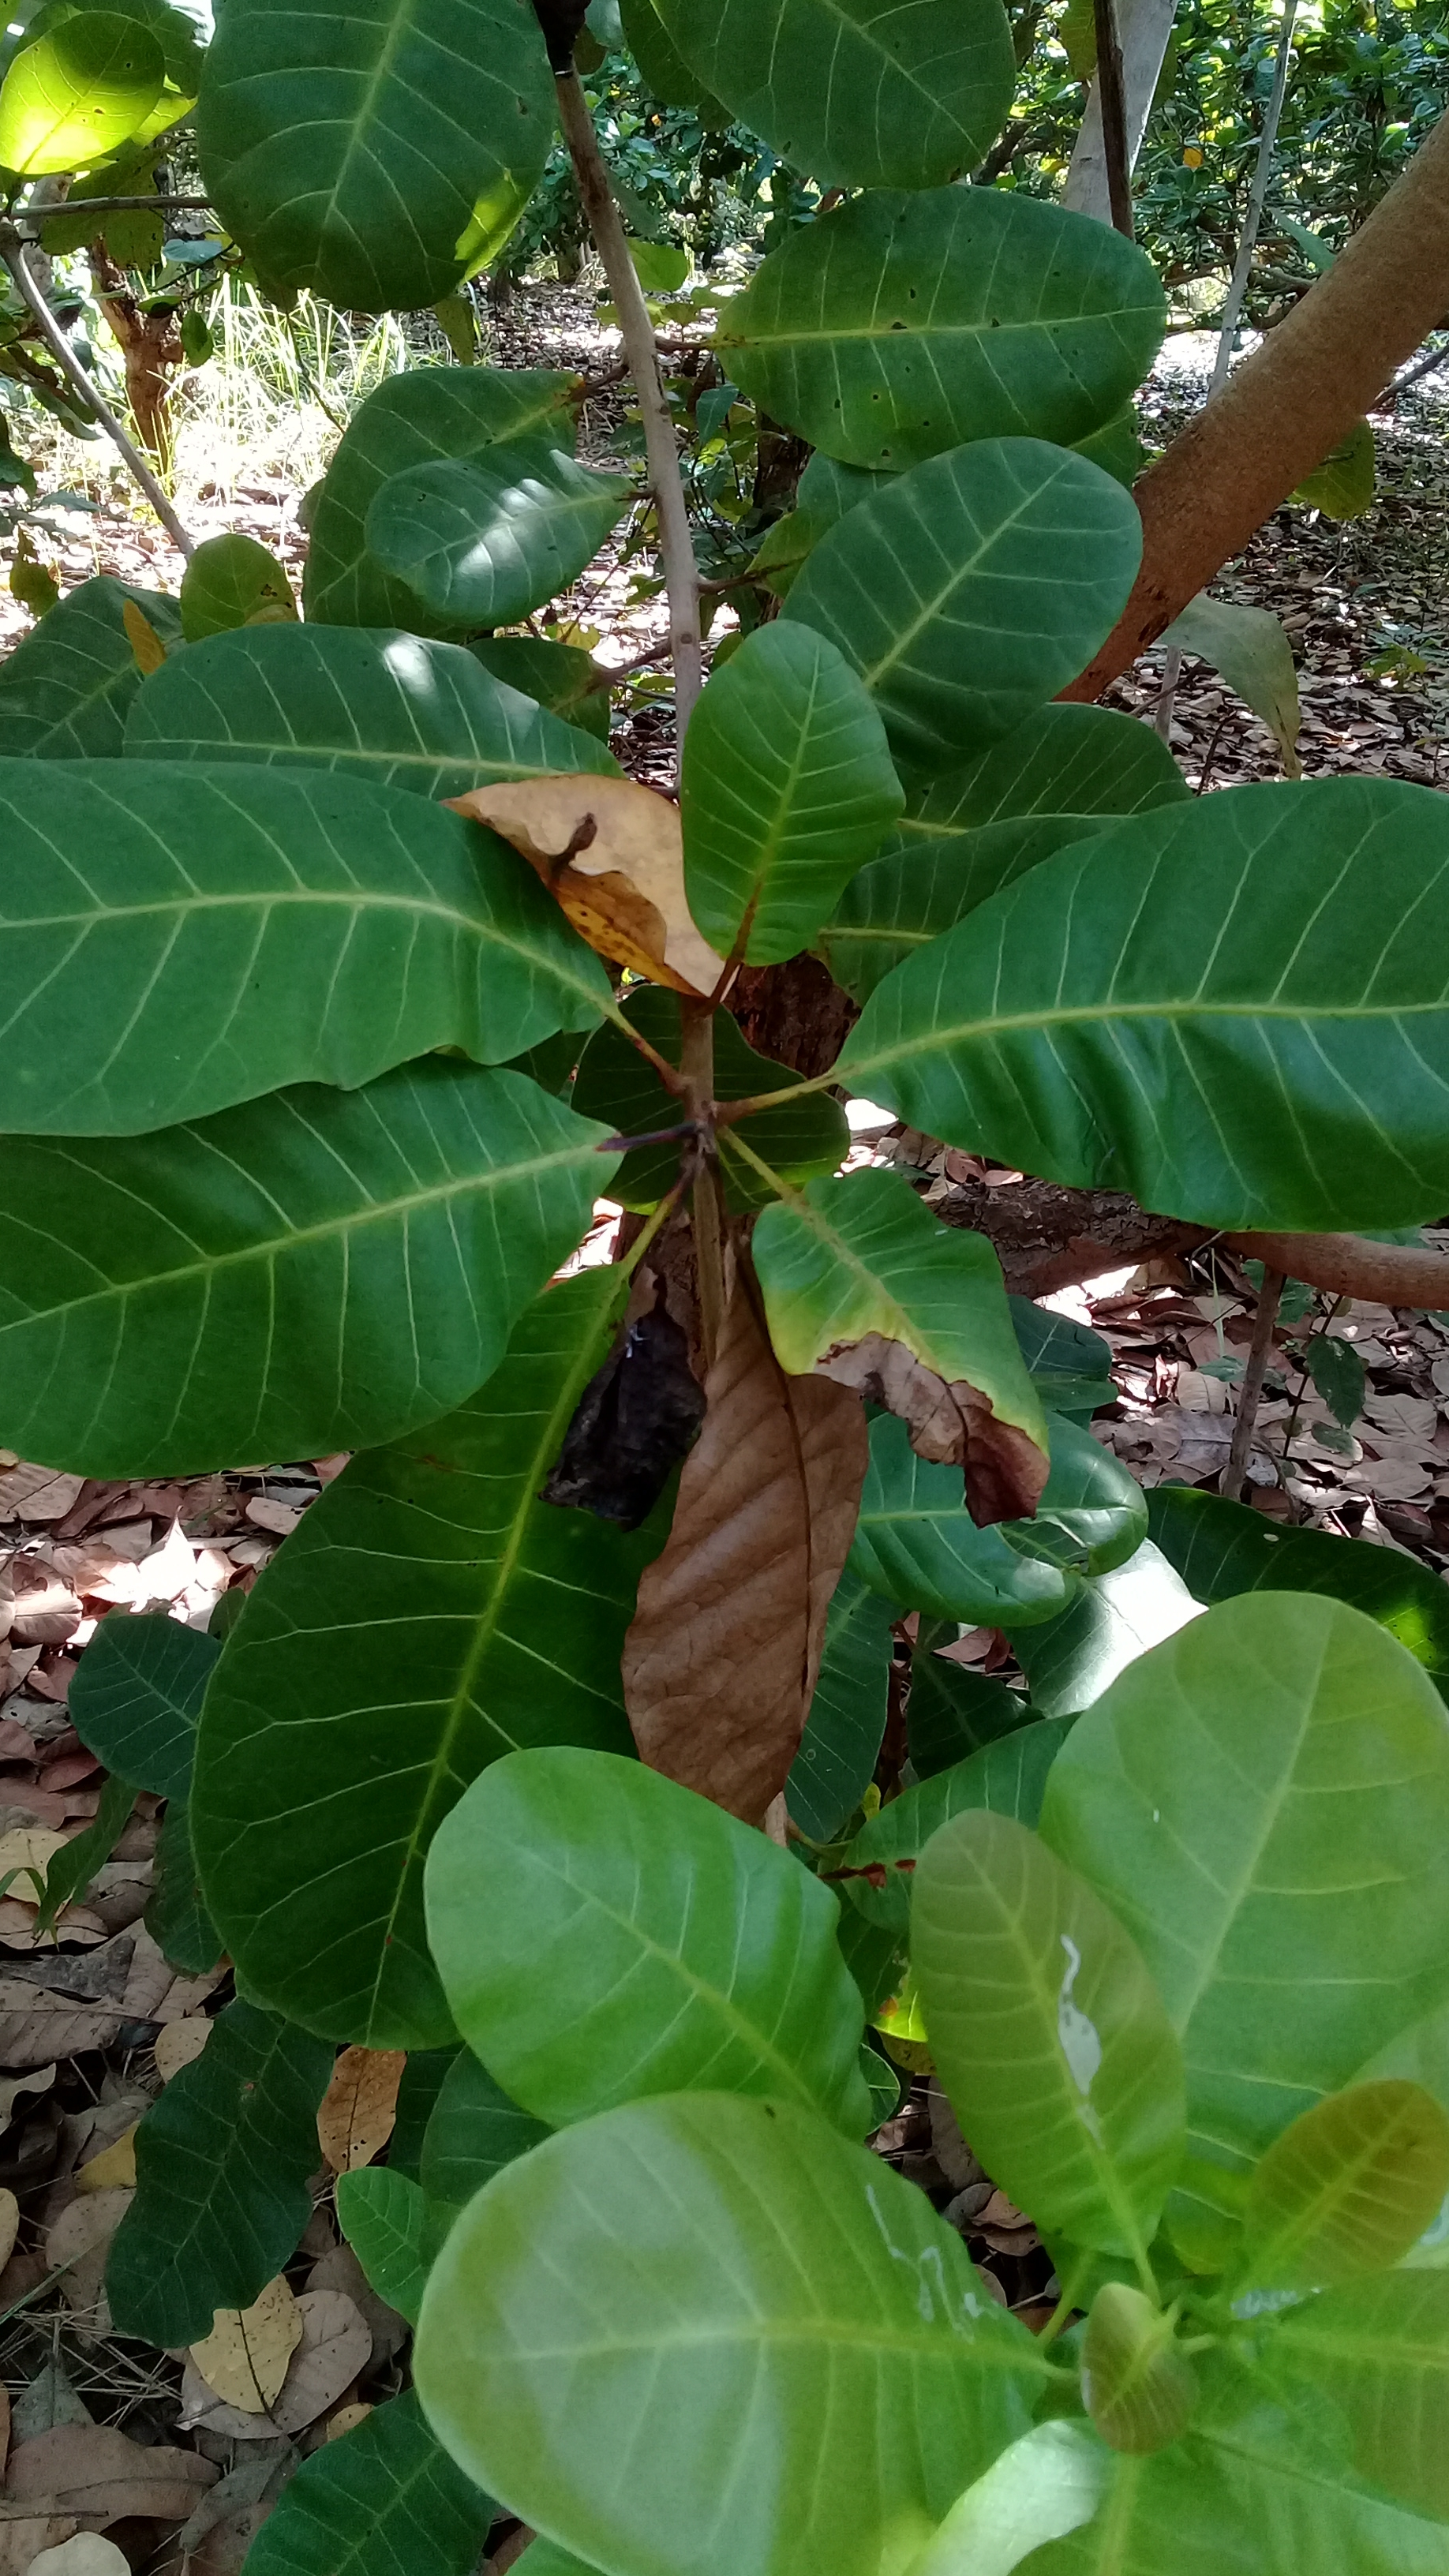Dysdercus wolkerii: (729, 1141, 1146, 1552)
